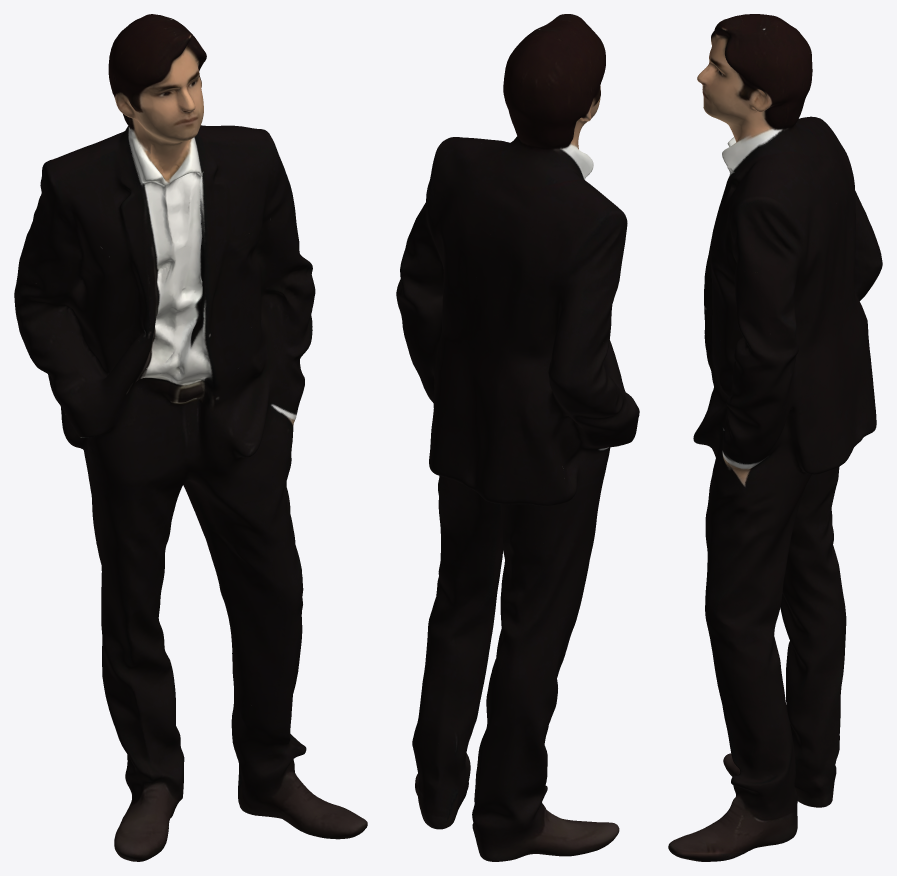
The model's file is avatar.glb.
The picture shows the model from 3 angles, left to right: view 1: azimuth 30°, elevation 25°; view 2: azimuth 150°, elevation 25°; view 3: azimuth 270°, elevation 25°; orthographic projection. The views are drawn at different scales.
Bounding box in the file's own units: 0.63 × 1.9 × 0.4781.
1 material, 1 textured.
